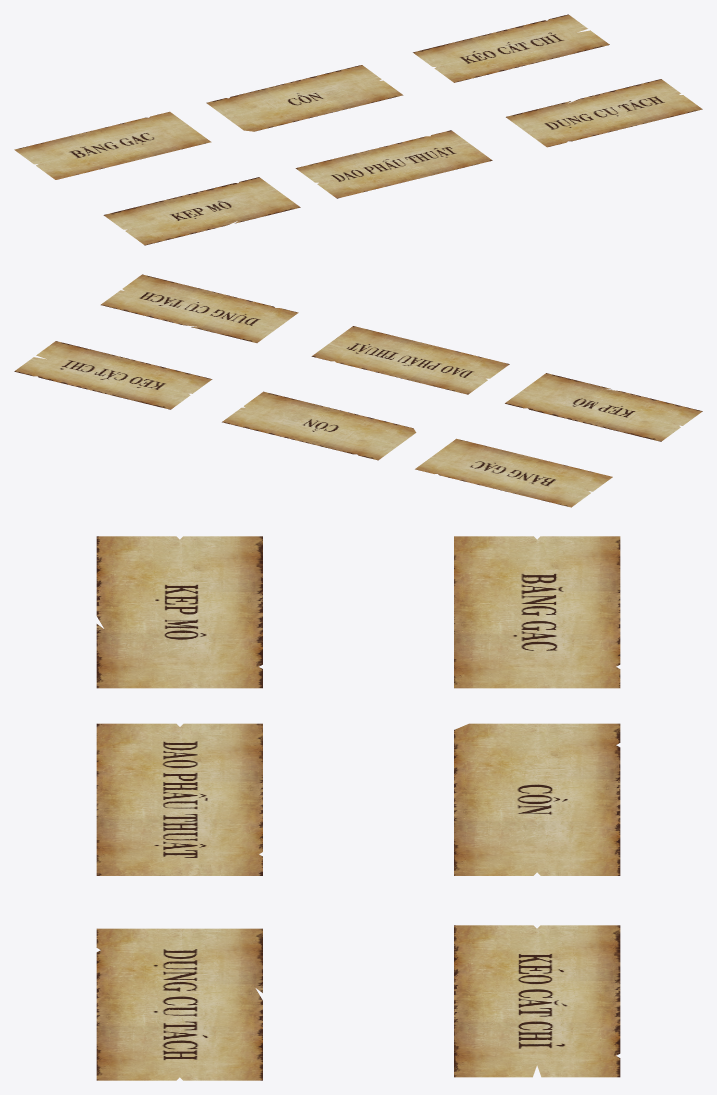
The model's file is nameboard.fbx.
3 views of the same model, one above another, from view 1: azimuth 30°, elevation 25°; view 2: azimuth 150°, elevation 25°; view 3: azimuth 270°, elevation 25° (orthographic). The views are drawn at different scales.
Visible parts, largest first — view 1: bang-gac, dao-phau-thuat, kep-mo, dung-cu-tach, keo-cat-chi, con; view 2: dao-phau-thuat, bang-gac, dung-cu-tach, keo-cat-chi, kep-mo, con; view 3: dao-phau-thuat, bang-gac, dung-cu-tach, kep-mo, keo-cat-chi, con.
Boxes of the visible parts, x1,y1,x2,y2 form: bang-gac: [14, 111, 211, 179]; dao-phau-thuat: [295, 130, 492, 198]; kep-mo: [103, 177, 300, 245]; dung-cu-tach: [506, 79, 702, 147]; keo-cat-chi: [413, 14, 609, 82]; con: [206, 65, 403, 131]; dao-phau-thuat: [311, 326, 509, 394]; bang-gac: [415, 438, 612, 507]; dung-cu-tach: [101, 274, 298, 342]; keo-cat-chi: [14, 341, 212, 409]; kep-mo: [505, 373, 702, 441]; con: [222, 391, 416, 460]; dao-phau-thuat: [96, 723, 262, 875]; bang-gac: [454, 536, 620, 688]; dung-cu-tach: [96, 928, 262, 1080]; kep-mo: [96, 536, 262, 688]; keo-cat-chi: [454, 925, 620, 1077]; con: [454, 723, 620, 875].
Bounding box in the file's own units: 44.12 × 1e-06 × 17.93.
